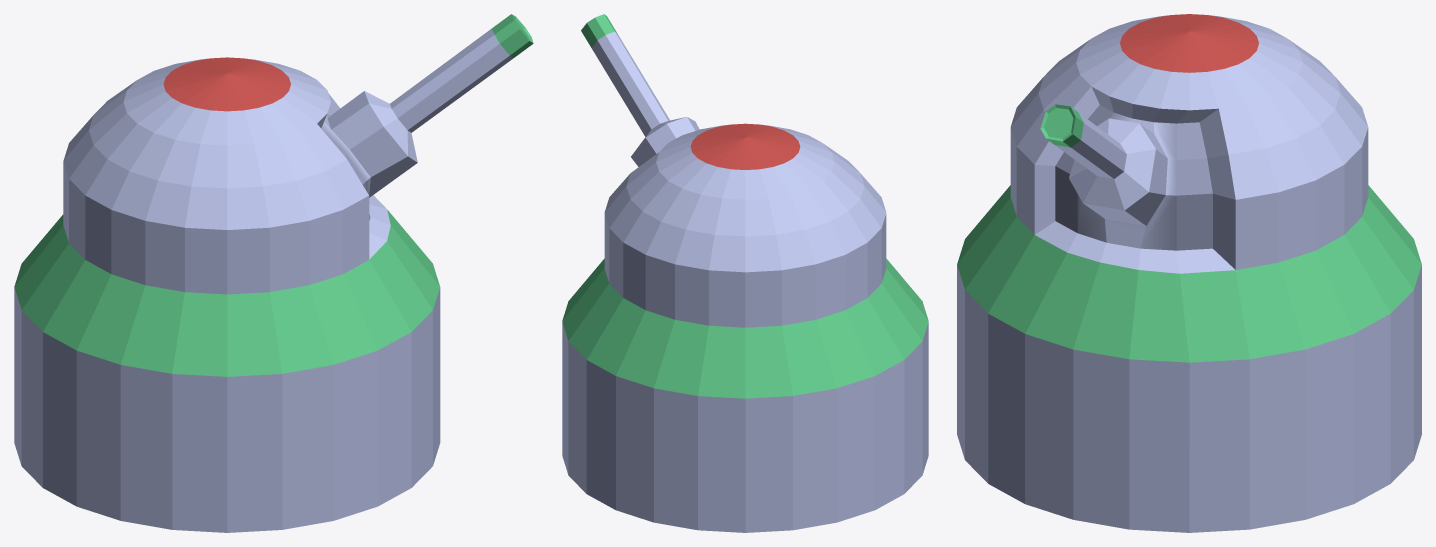
The model's file is Turret.fbx.
3 renders of one model, left to right at view 1: azimuth 30°, elevation 25°; view 2: azimuth 150°, elevation 25°; view 3: azimuth 270°, elevation 25°, orthographic. The views are drawn at different scales.
Visible parts, largest first — view 1: Turret; view 2: Turret; view 3: Turret.
Boxes of the visible parts, x1,y1,x2,y2 form: Turret: (14, 14, 533, 532); Turret: (562, 14, 928, 532); Turret: (957, 14, 1421, 532).
Bounding box in the file's own units: 272 × 250 × 233.
Materials: 1 (1 with a texture image).
